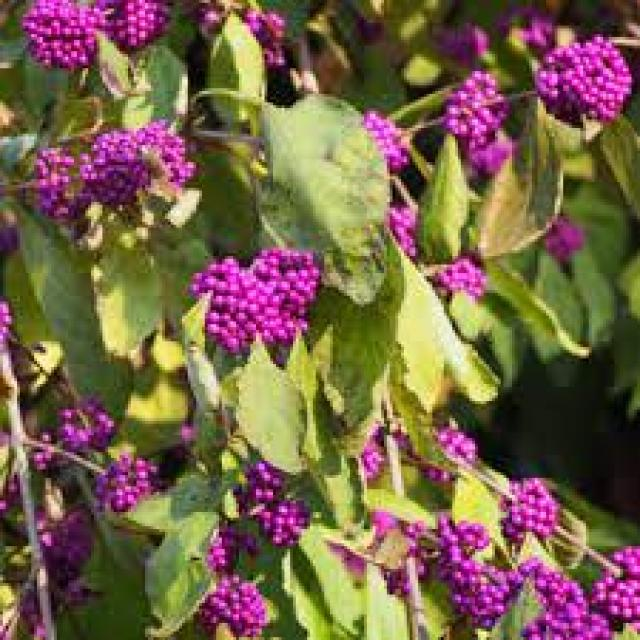organic waste: (18, 111, 195, 216), (405, 518, 542, 623), (214, 246, 322, 351), (200, 554, 277, 640), (543, 41, 620, 124), (448, 68, 502, 182), (481, 474, 566, 544), (20, 4, 102, 64), (356, 98, 401, 178), (429, 263, 495, 303)
